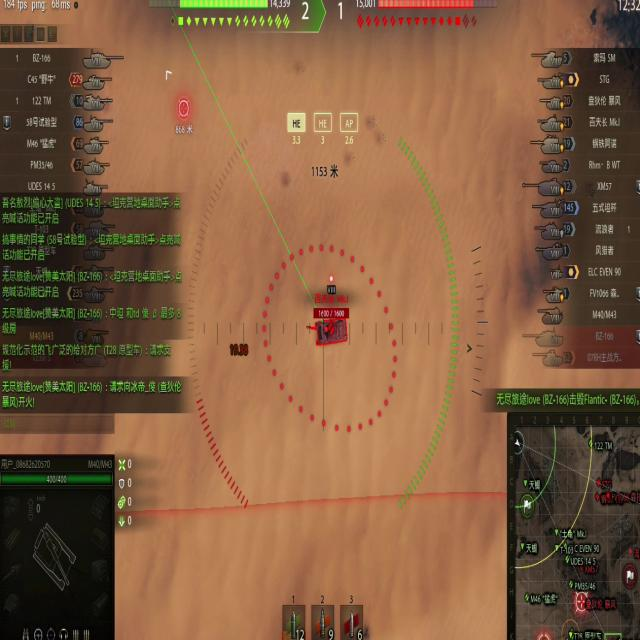tank: (306, 302, 354, 348)
